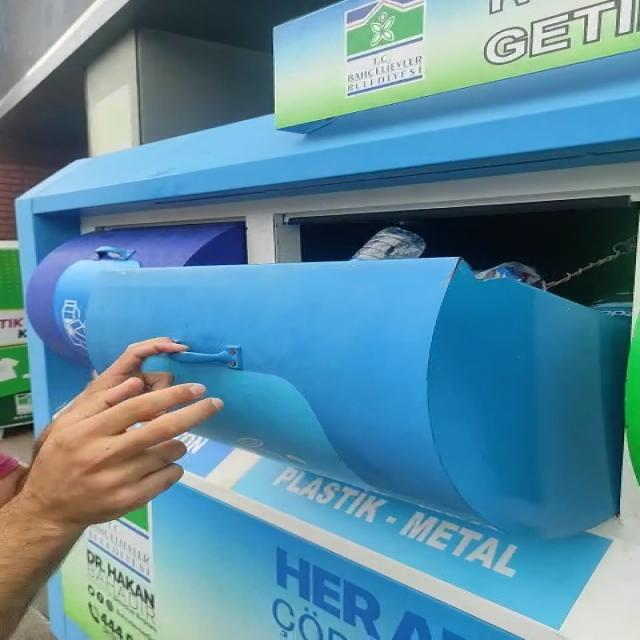Plastic: (351, 228, 427, 260)
